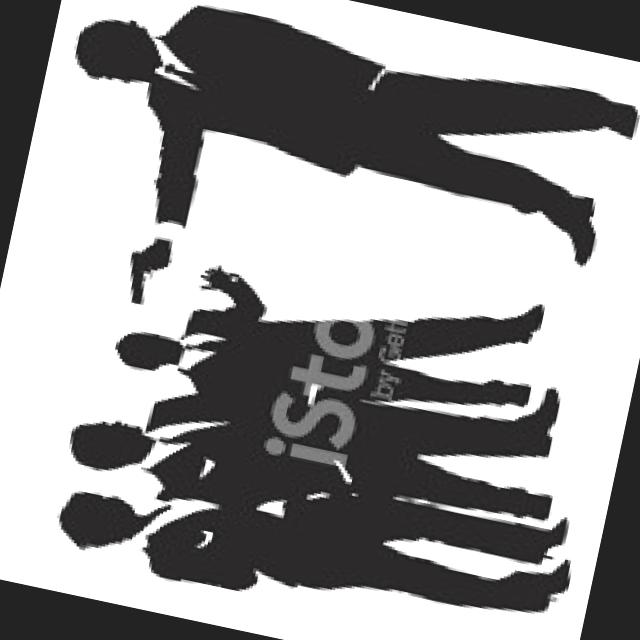handgun: (94, 226, 184, 314)
